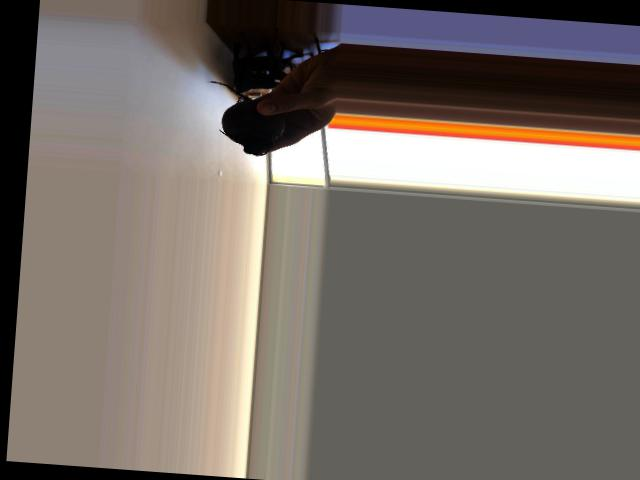beet: (201, 80, 287, 157)
